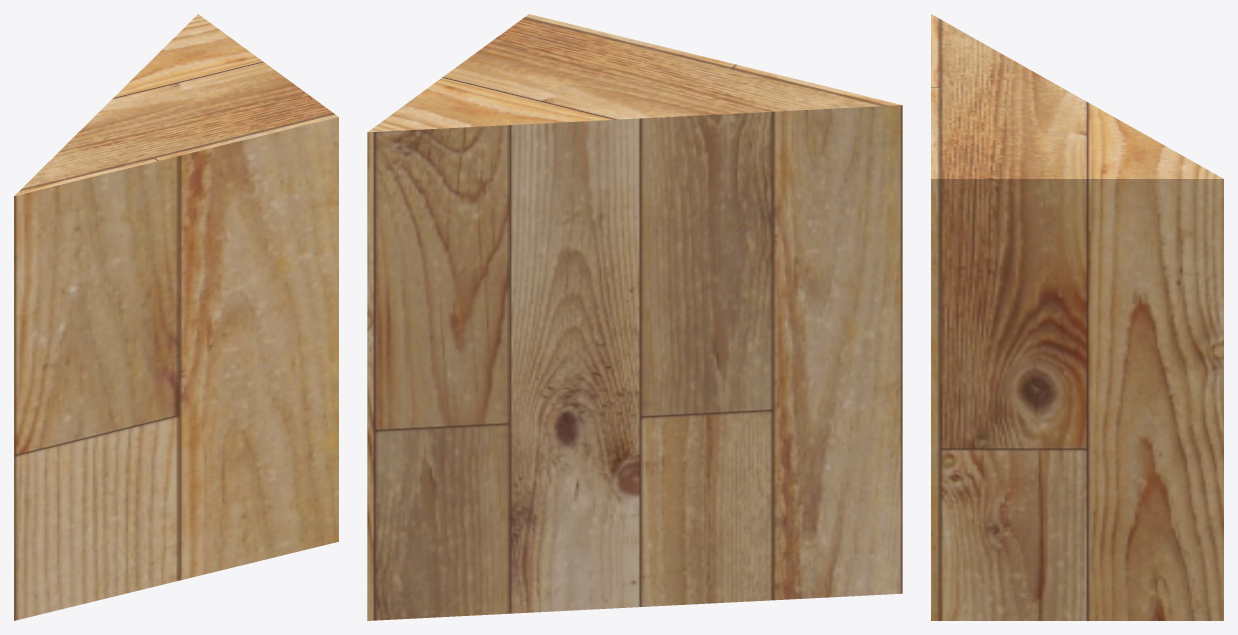
Rendered from Ramp.glb.
3 renders of one model, left to right at view 1: azimuth 30°, elevation 25°; view 2: azimuth 150°, elevation 25°; view 3: azimuth 270°, elevation 25°, orthographic. The views are drawn at different scales.
Visible parts, largest first — view 1: Cube; view 2: Cube; view 3: Cube.
Boxes of the visible parts, bbox=[...] form: Cube: bbox=[14, 14, 338, 620]; Cube: bbox=[367, 14, 902, 620]; Cube: bbox=[931, 14, 1223, 620].
Bounding box in the file's own units: 0.8 × 1 × 0.6.
Materials: 1 (1 with a texture image).
